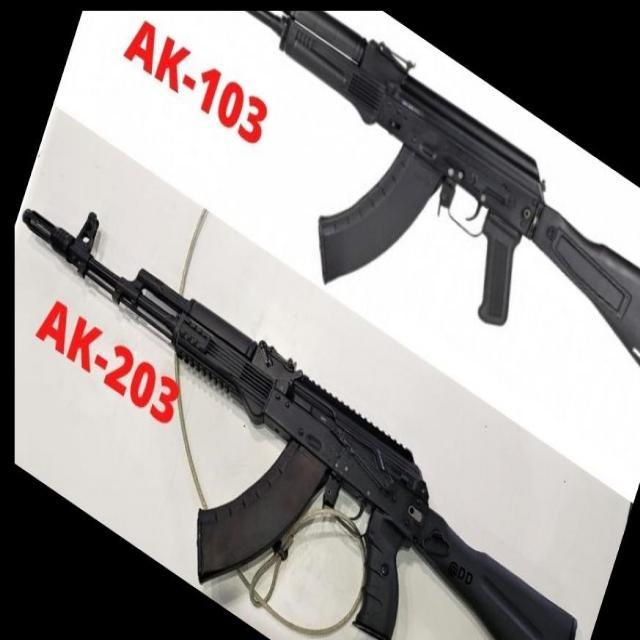weapon: (22, 207, 580, 640), (244, 11, 640, 366)
